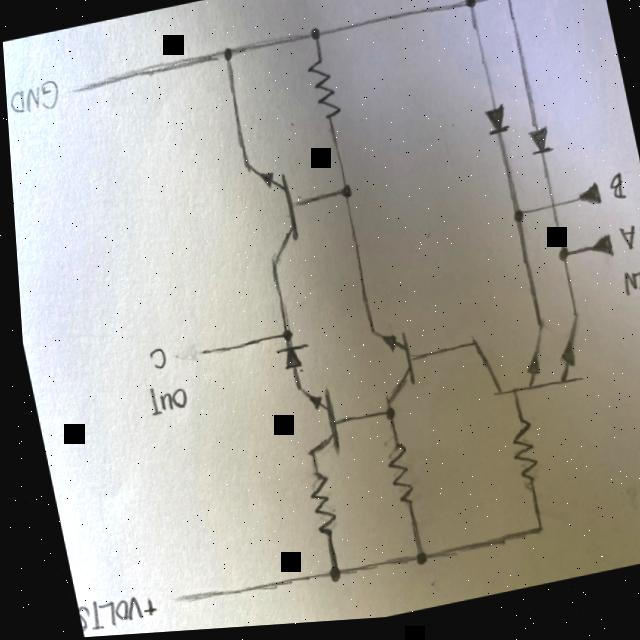crossover: (544, 206, 558, 222)
diode: (475, 107, 514, 149), (520, 127, 555, 172), (267, 345, 310, 380)
junction: (332, 184, 354, 211), (550, 251, 572, 276), (402, 552, 424, 577), (216, 45, 237, 71), (306, 26, 326, 52), (317, 565, 337, 590), (524, 523, 542, 550), (508, 214, 526, 237), (461, 0, 479, 23), (378, 412, 394, 433), (275, 330, 292, 349), (497, 0, 516, 14)
resistor: (375, 441, 416, 520), (295, 473, 337, 549), (304, 58, 345, 133), (501, 423, 537, 500)
terminal: (580, 238, 614, 273), (570, 189, 602, 220), (67, 78, 98, 106), (159, 590, 187, 616), (186, 344, 215, 368)
text: (69, 591, 137, 636), (5, 77, 63, 122), (137, 380, 187, 424), (615, 273, 640, 311), (603, 179, 628, 214), (613, 230, 638, 263), (142, 346, 167, 376), (134, 595, 152, 623)
transistor: (456, 313, 593, 421), (234, 152, 308, 279), (282, 380, 341, 472), (361, 318, 418, 413)
